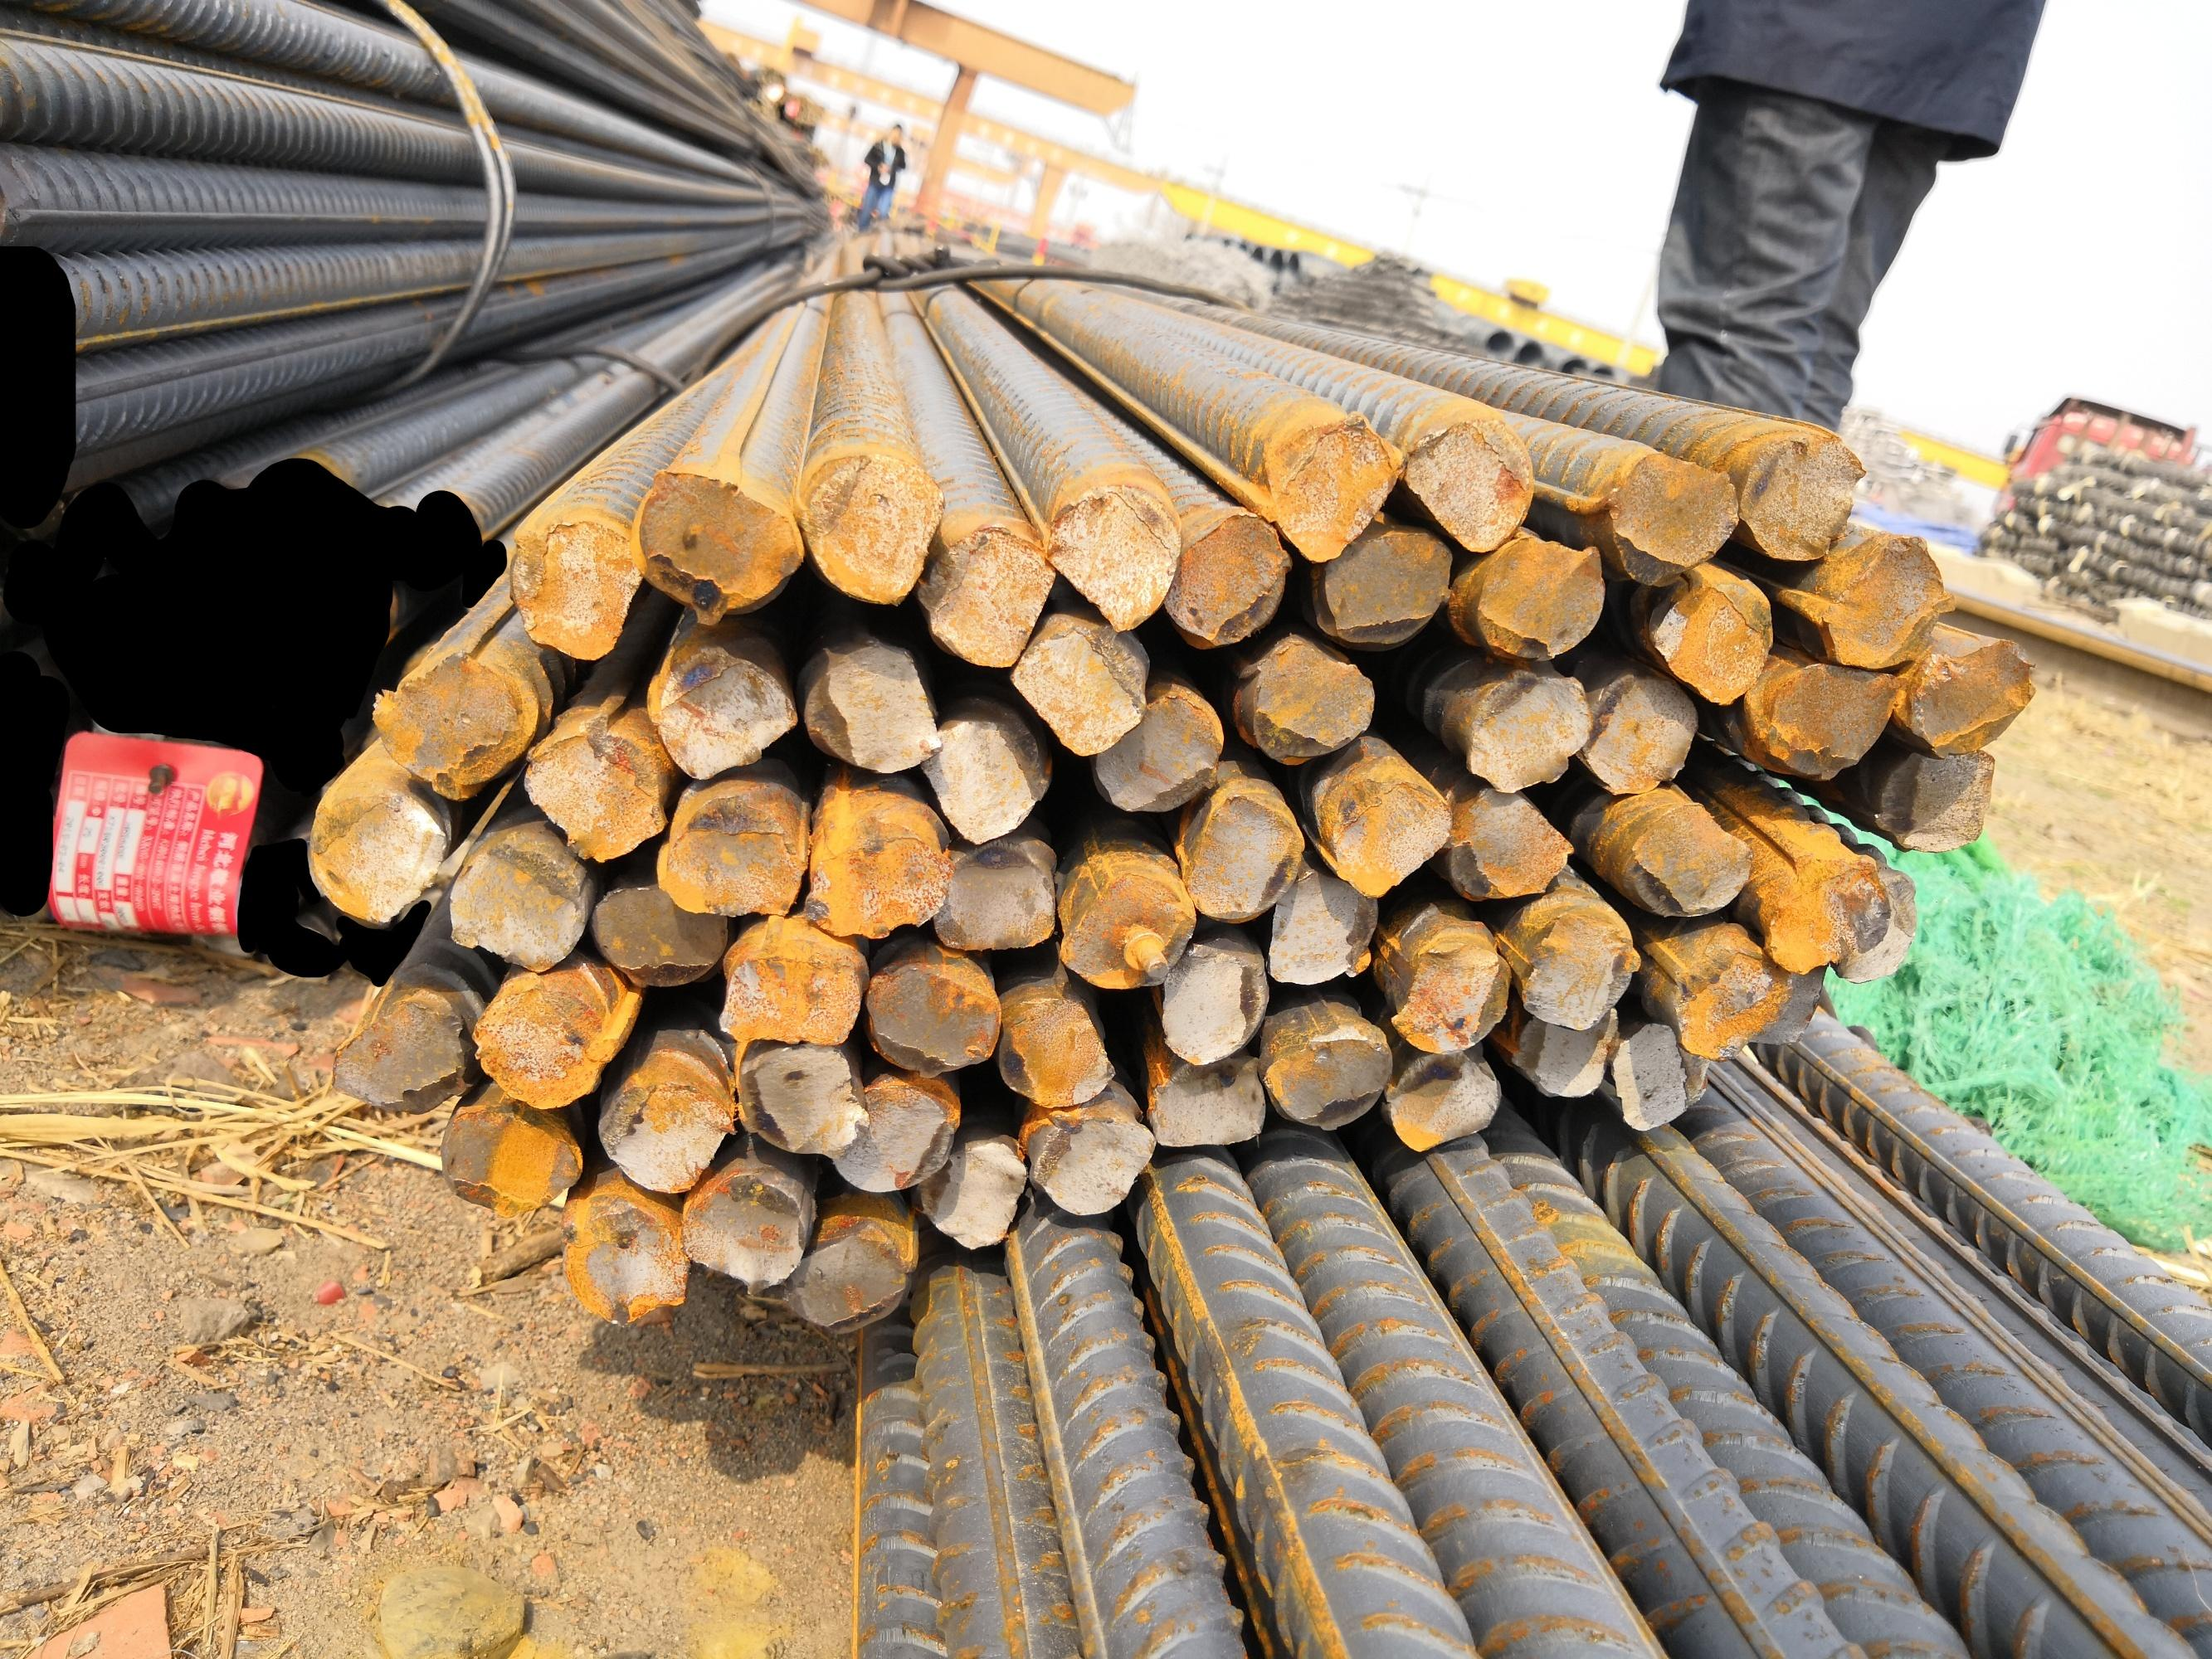bar: (631, 467, 807, 627), (370, 643, 537, 800), (1255, 401, 1407, 566), (797, 448, 947, 610), (1797, 528, 1956, 673), (518, 714, 669, 864), (1004, 606, 1150, 760), (1586, 441, 1740, 587), (1044, 474, 1184, 634), (643, 638, 798, 781), (300, 784, 450, 927), (444, 829, 587, 976), (915, 523, 1055, 673), (802, 634, 947, 777), (654, 788, 809, 920), (1400, 406, 1537, 552), (469, 983, 626, 1110), (506, 514, 640, 662), (1088, 678, 1227, 817), (1049, 863, 1198, 992), (1733, 427, 1869, 563), (1510, 897, 1642, 1037), (922, 709, 1055, 847), (1647, 570, 1780, 708), (1161, 509, 1292, 648), (804, 824, 957, 943), (716, 931, 865, 1053), (1759, 659, 1907, 781), (324, 992, 467, 1117), (1313, 523, 1455, 648), (1761, 838, 1893, 972), (1471, 535, 1609, 664), (1178, 786, 1306, 924), (1245, 633, 1379, 762), (594, 1072, 736, 1194), (678, 1169, 812, 1297), (558, 1201, 689, 1330), (1388, 925, 1517, 1056), (1621, 795, 1752, 922), (438, 1098, 584, 1211), (1466, 667, 1593, 796), (584, 878, 729, 992), (866, 953, 1002, 1073), (1910, 631, 2038, 758), (1321, 774, 1452, 897), (1578, 664, 1700, 796), (734, 1040, 872, 1157), (1665, 939, 1794, 1061), (830, 1075, 960, 1195), (1447, 779, 1574, 901), (1259, 863, 1381, 988), (1156, 939, 1271, 1070), (1027, 1107, 1157, 1220), (1262, 1021, 1394, 1133), (1381, 1040, 1508, 1154), (781, 1222, 912, 1331), (995, 993, 1116, 1108), (1872, 746, 2001, 852), (934, 842, 1058, 951), (1827, 861, 1928, 995), (1605, 1016, 1715, 1136), (919, 1136, 1028, 1251), (1142, 1054, 1265, 1148), (1513, 1002, 1621, 1100), (1741, 951, 1834, 1065)
